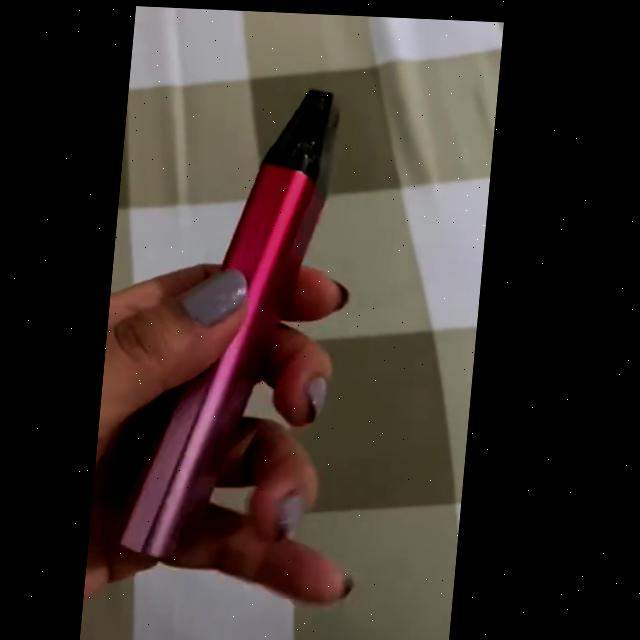vape: (123, 82, 392, 601)
